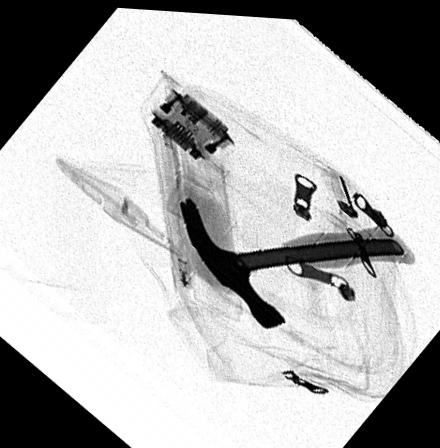Hammer: (178, 193, 415, 324)
